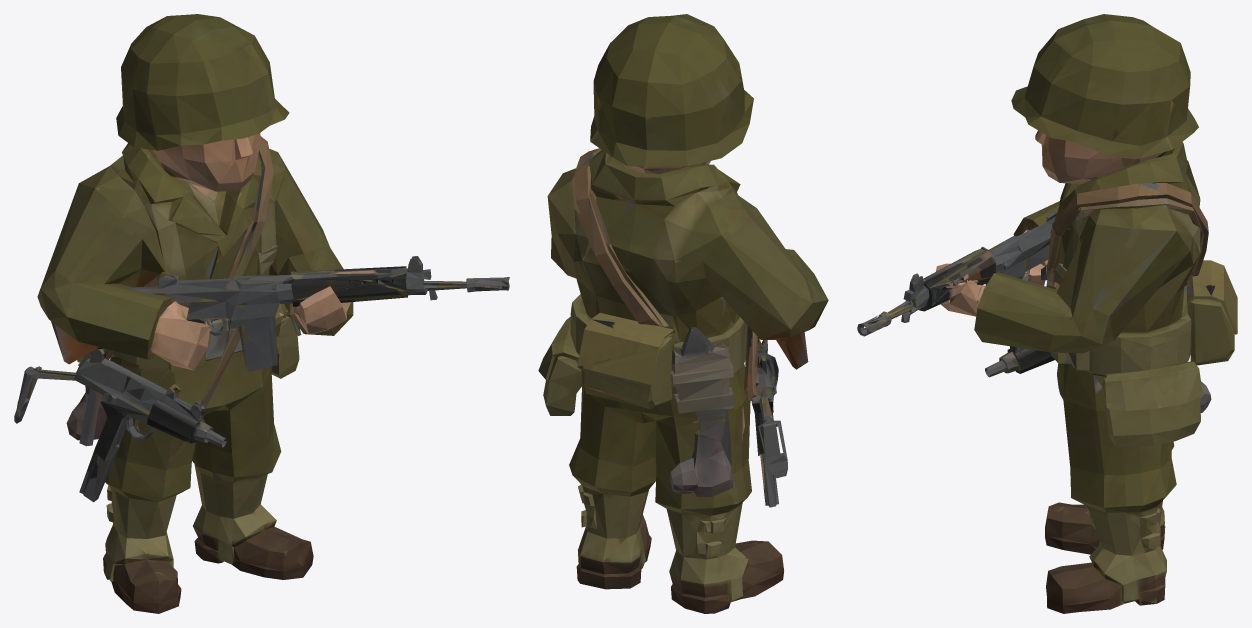
File: golan73_israeli_inf_0.glb
The picture shows the model from 3 angles, left to right: view 1: azimuth 30°, elevation 25°; view 2: azimuth 150°, elevation 25°; view 3: azimuth 270°, elevation 25°; orthographic projection.
Parts seen in each view (by area): view 1: geometry_0; view 2: geometry_0; view 3: geometry_0.
Boxes of the visible parts, x1,y1,x2,y2 form: geometry_0: (14,14,509,613); geometry_0: (538,14,828,613); geometry_0: (857,14,1237,613).
Size of the model in its own units: 0.2096 by 0.324 by 0.2029.
1 material, 1 textured.
